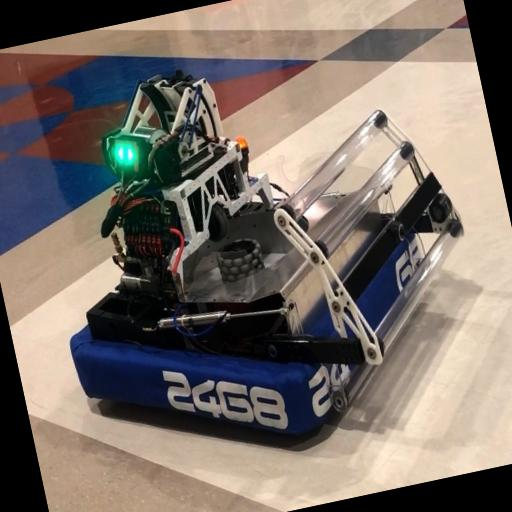robot: (14, 12, 506, 494)
